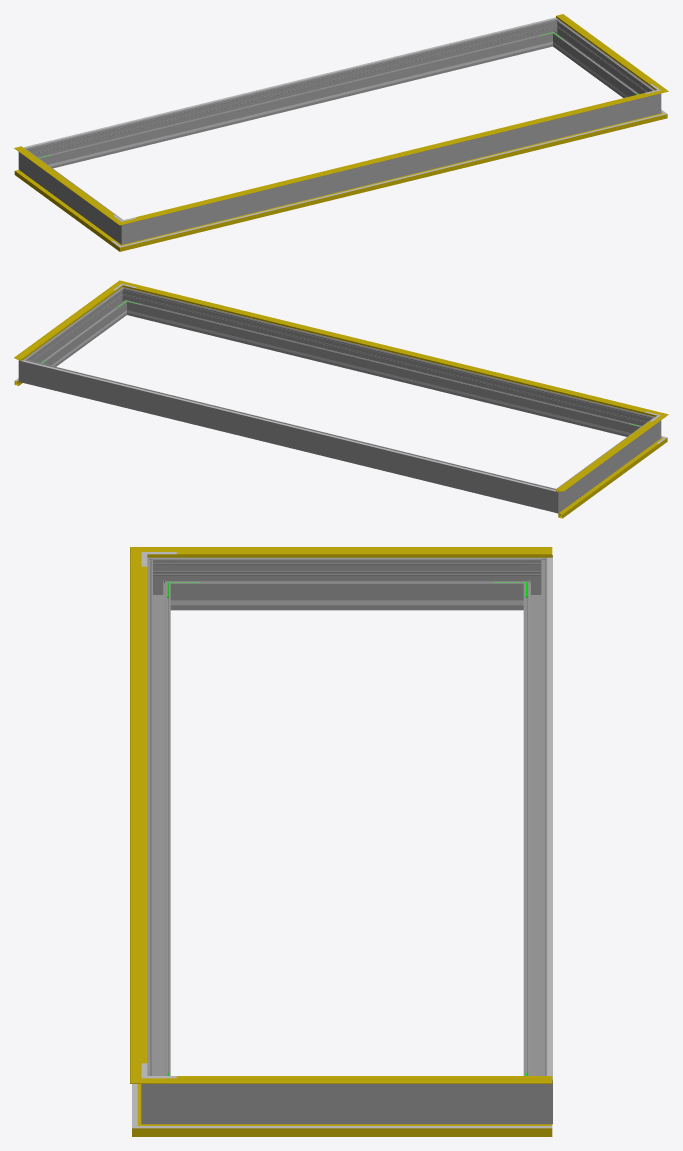
The picture shows the model from 3 angles, top to bottom: view 1: azimuth 30°, elevation 25°; view 2: azimuth 150°, elevation 25°; view 3: azimuth 270°, elevation 25°; orthographic projection. The views are drawn at different scales.
Parts seen in each view (by area): view 1: 3DGeom-276, 3DGeom-298, 3DGeom-11, 3DGeom-297, 3DGeom-141, 3DGeom-268, 3DGeom-244, 3DGeom-220, 3DGeom-20, 3DGeom-158, 3DGeom-145, 3DGeom-6 (+2 smaller); view 2: 3DGeom-298, 3DGeom-276, 3DGeom-141, 3DGeom-297, 3DGeom-268, 3DGeom-239, 3DGeom-220, 3DGeom-158, 3DGeom-145, 3DGeom-6, 3DGeom-147, 3DGeom-278 (+1 smaller); view 3: 3DGeom-268, 3DGeom-297, 3DGeom-276, 3DGeom-298, 3DGeom-141, 3DGeom-16, 3DGeom-147, 3DGeom-158, 3DGeom-220, 3DGeom-145, 3DGeom-232, 3DGeom-284 (+6 smaller).
Part boxes in pixels (<box>): 3DGeom-276: <box>35,21,550,168</box>; 3DGeom-298: <box>137,97,645,240</box>; 3DGeom-11: <box>133,116,652,247</box>; 3DGeom-297: <box>554,24,649,97</box>; 3DGeom-141: <box>132,93,653,221</box>; 3DGeom-268: <box>27,153,117,238</box>; 3DGeom-244: <box>53,45,538,165</box>; 3DGeom-220: <box>23,17,556,148</box>; 3DGeom-20: <box>134,117,651,243</box>; 3DGeom-158: <box>136,93,645,217</box>; 3DGeom-145: <box>556,14,659,87</box>; 3DGeom-6: <box>14,170,114,244</box>; 3DGeom-298: <box>129,290,644,436</box>; 3DGeom-276: <box>34,362,545,509</box>; 3DGeom-141: <box>130,284,652,415</box>; 3DGeom-297: <box>30,292,125,366</box>; 3DGeom-268: <box>562,422,652,506</box>; 3DGeom-239: <box>141,313,626,434</box>; 3DGeom-220: <box>21,360,555,491</box>; 3DGeom-158: <box>136,287,645,412</box>; 3DGeom-145: <box>14,287,118,360</box>; 3DGeom-6: <box>556,443,658,518</box>; 3DGeom-147: <box>556,419,659,491</box>; 3DGeom-278: <box>543,484,566,513</box>; 3DGeom-268: <box>176,557,517,610</box>; 3DGeom-297: <box>176,1084,517,1124</box>; 3DGeom-276: <box>523,570,547,1075</box>; 3DGeom-298: <box>147,570,170,1075</box>; 3DGeom-141: <box>130,562,141,1068</box>; 3DGeom-16: <box>167,1124,552,1136</box>; 3DGeom-147: <box>165,547,552,557</box>; 3DGeom-158: <box>141,566,147,1063</box>; 3DGeom-220: <box>547,557,552,1079</box>; 3DGeom-145: <box>165,1078,552,1083</box>; 3DGeom-232: <box>204,600,489,605</box>; 3DGeom-284: <box>517,1067,552,1124</box>.
Bounding box in the file's own units: 5.49 × 0.2596 × 1.83.
